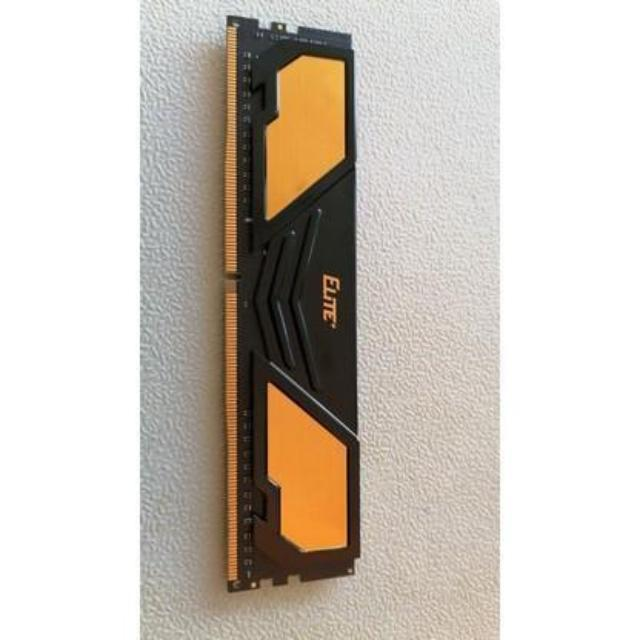RAM: (200, 0, 369, 609)
